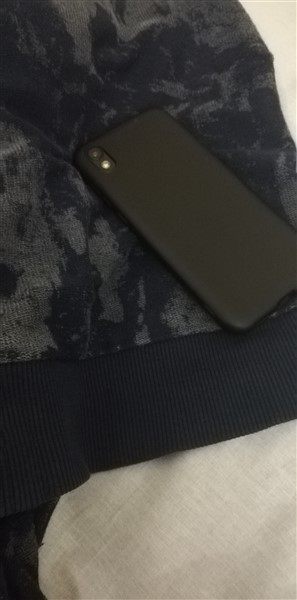telefon: (75, 103, 297, 337)
